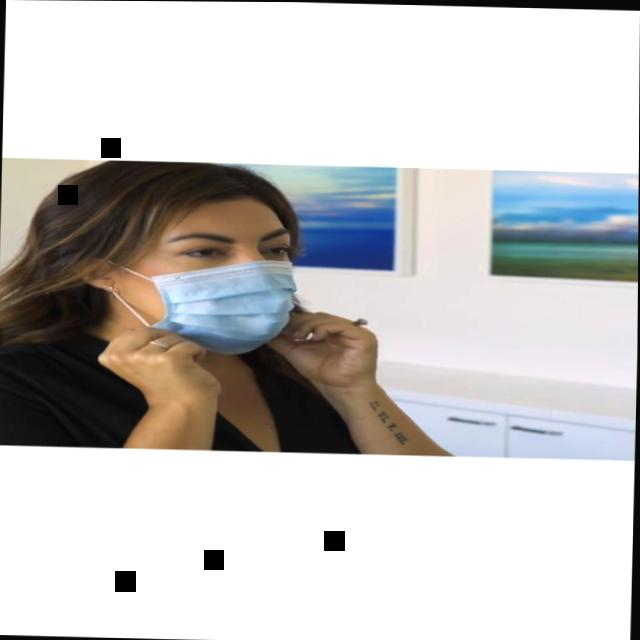Mask: (119, 192, 302, 351)
